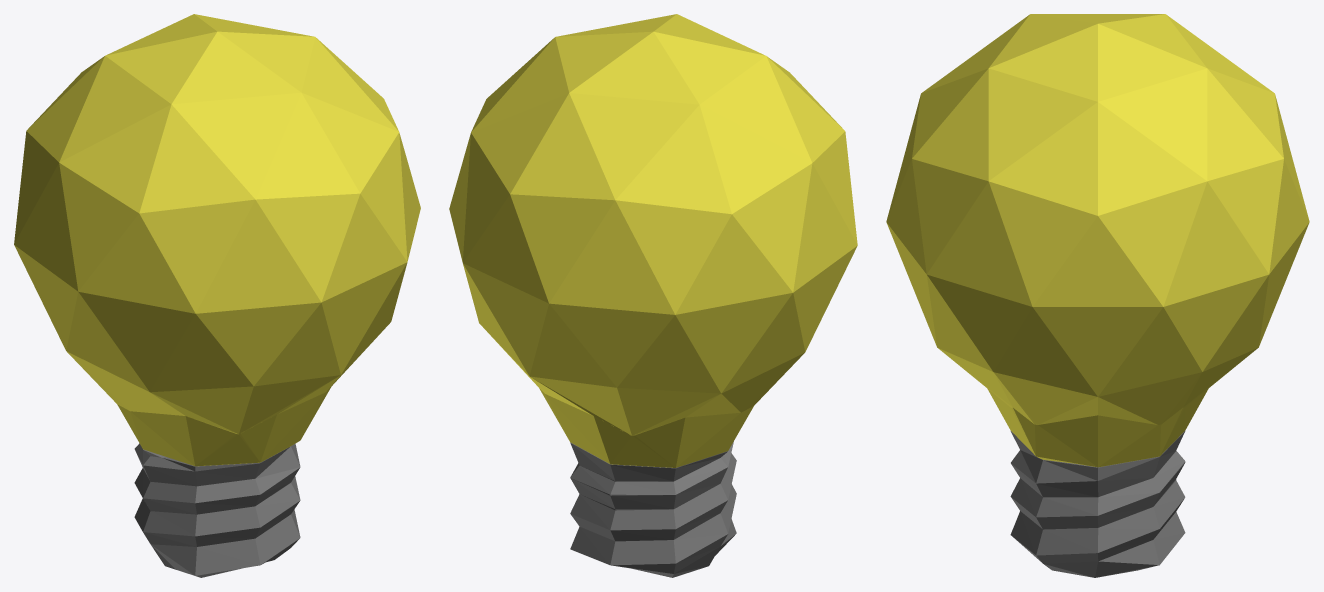
The model's file is bulb.dae.
3 views of the same model, side by side, from view 1: azimuth 30°, elevation 25°; view 2: azimuth 150°, elevation 25°; view 3: azimuth 270°, elevation 25° (orthographic).
Parts seen in each view (by area): view 1: Bulb, Spring; view 2: Bulb, Spring; view 3: Bulb, Spring.
Part boxes in pixels (x1,y1,x2,y2): Bulb: (14, 14, 420, 466); Spring: (134, 443, 300, 577); Bulb: (449, 14, 857, 467); Spring: (570, 441, 736, 577); Bulb: (886, 14, 1309, 467); Spring: (1010, 431, 1185, 577).
Size of the model in its own units: 1.84 by 1.94 by 2.67.
